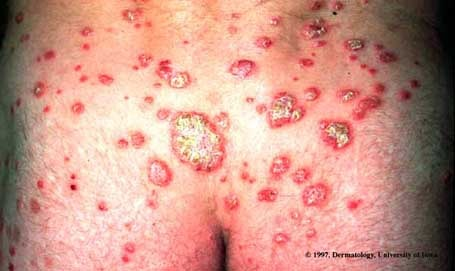Psoriasis: (170, 111, 230, 175), (266, 90, 303, 129), (320, 115, 355, 153), (118, 6, 159, 30), (146, 156, 173, 190), (161, 60, 195, 87), (300, 182, 337, 206), (298, 17, 336, 40), (226, 55, 256, 84), (354, 94, 382, 120), (267, 151, 294, 177), (334, 83, 360, 103), (258, 185, 282, 203), (97, 68, 117, 89), (43, 44, 61, 64), (135, 52, 154, 70), (342, 33, 363, 49), (254, 35, 275, 51), (226, 193, 241, 212), (73, 99, 87, 116), (97, 201, 109, 215)
